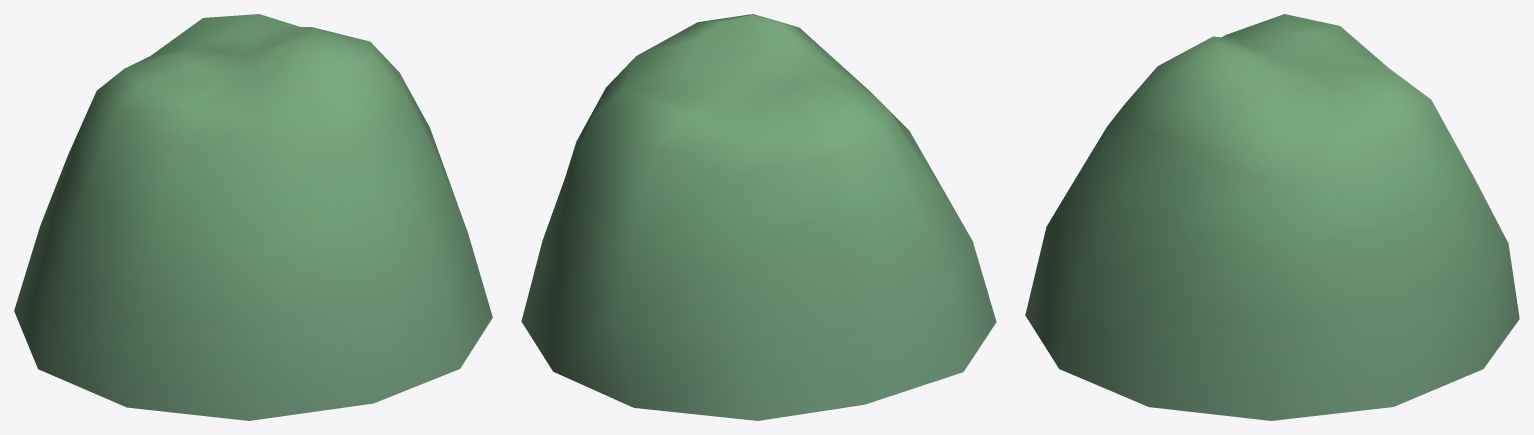
File: FX_Hill.fbx
The picture shows the model from 3 angles, left to right: view 1: azimuth 30°, elevation 25°; view 2: azimuth 150°, elevation 25°; view 3: azimuth 270°, elevation 25°; orthographic projection. The views are drawn at different scales.
Visible parts, largest first — view 1: hillFX; view 2: hillFX; view 3: hillFX.
Boxes of the visible parts, <box> form: hillFX: <box>14,14,492,420</box>; hillFX: <box>521,14,996,420</box>; hillFX: <box>1025,14,1519,420</box>.
Bounding box in the file's own units: 4.2 × 2.75 × 4.25.
1 material, 1 textured.
